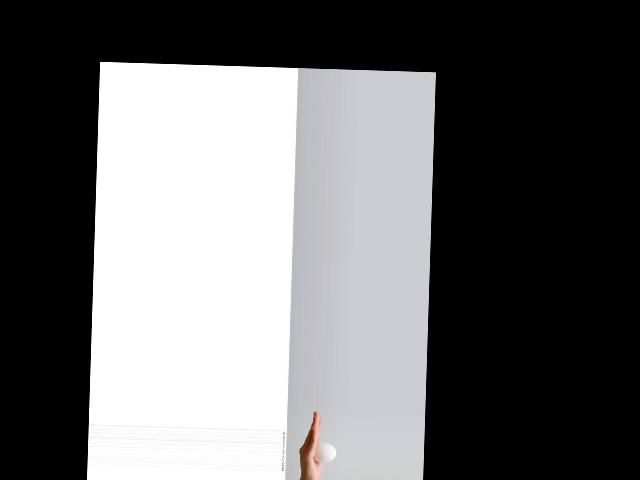egg: (312, 442, 336, 462)
